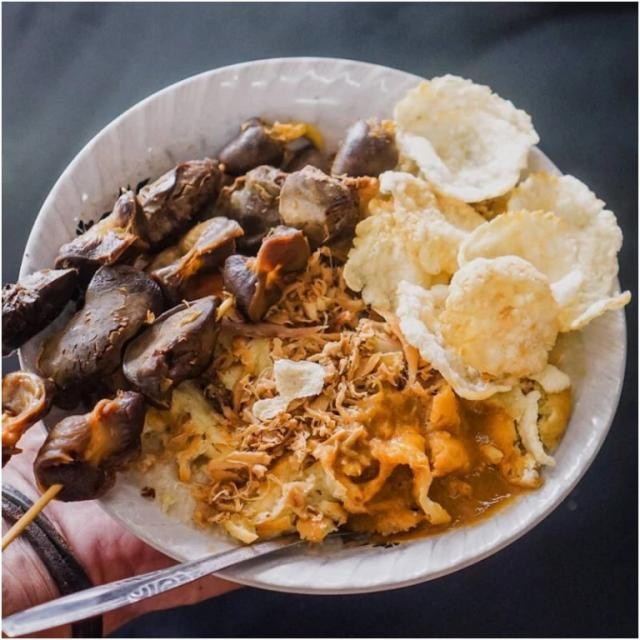bubur ayam: (75, 134, 582, 544)
mangkuk: (9, 54, 628, 597)
